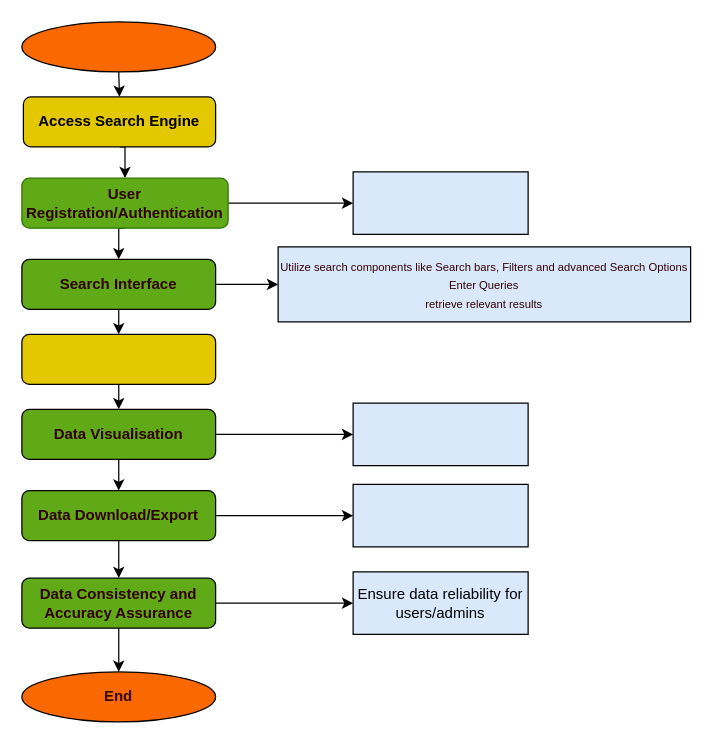
The diagram is 713 pixels wide and 744 high, and some of its shapes have lost their labels. Each missing label, with the centre of its shape:
Download and Export Results: the point at 440,515
Register/ Login Personalised Dashboard: the point at 440,202
START: the point at 118,46
Viewing Details: the point at 118,358
Visualize Data with graphs or charts: the point at 440,434
